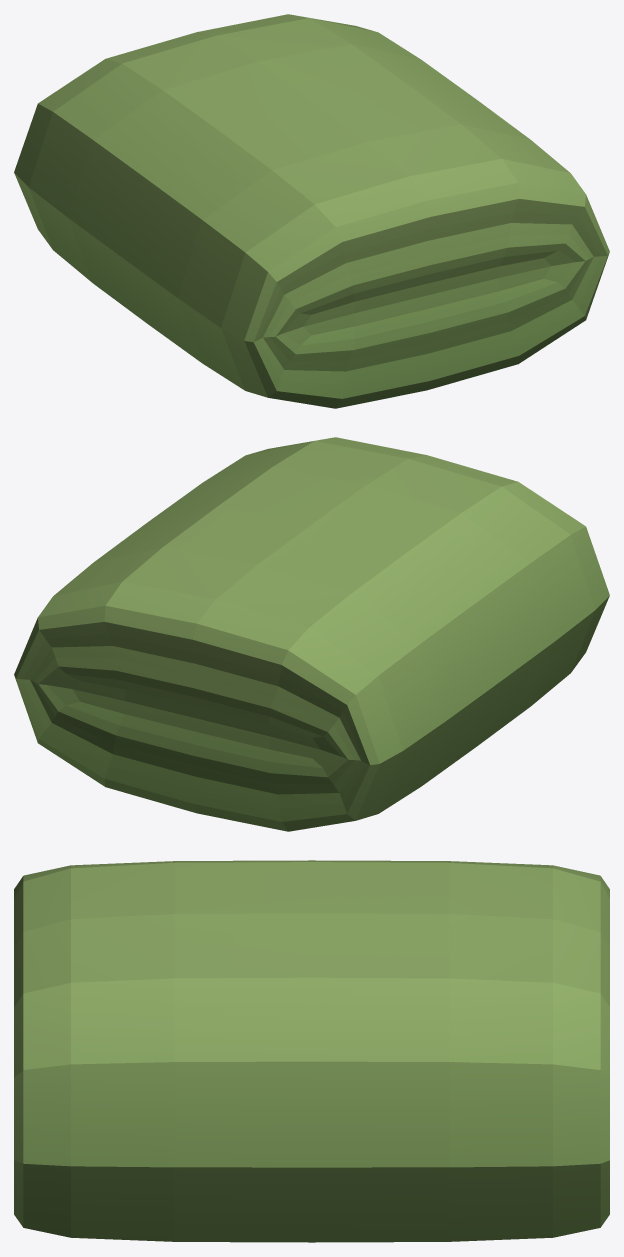
The model's file is Clothes2_C3.fbx.
3 renders of one model, top to bottom at view 1: azimuth 30°, elevation 25°; view 2: azimuth 150°, elevation 25°; view 3: azimuth 270°, elevation 25°, orthographic. The views are drawn at different scales.
Visible parts, largest first — view 1: Clothes2_C3; view 2: Clothes2_C3; view 3: Clothes2_C3.
Part boxes in pixels (x1,y1,x2,y2): Clothes2_C3: (14,14,609,408); Clothes2_C3: (14,437,609,831); Clothes2_C3: (14,860,609,1242).
Bounding box in the file's own units: 21.86 × 12.06 × 23.8.
